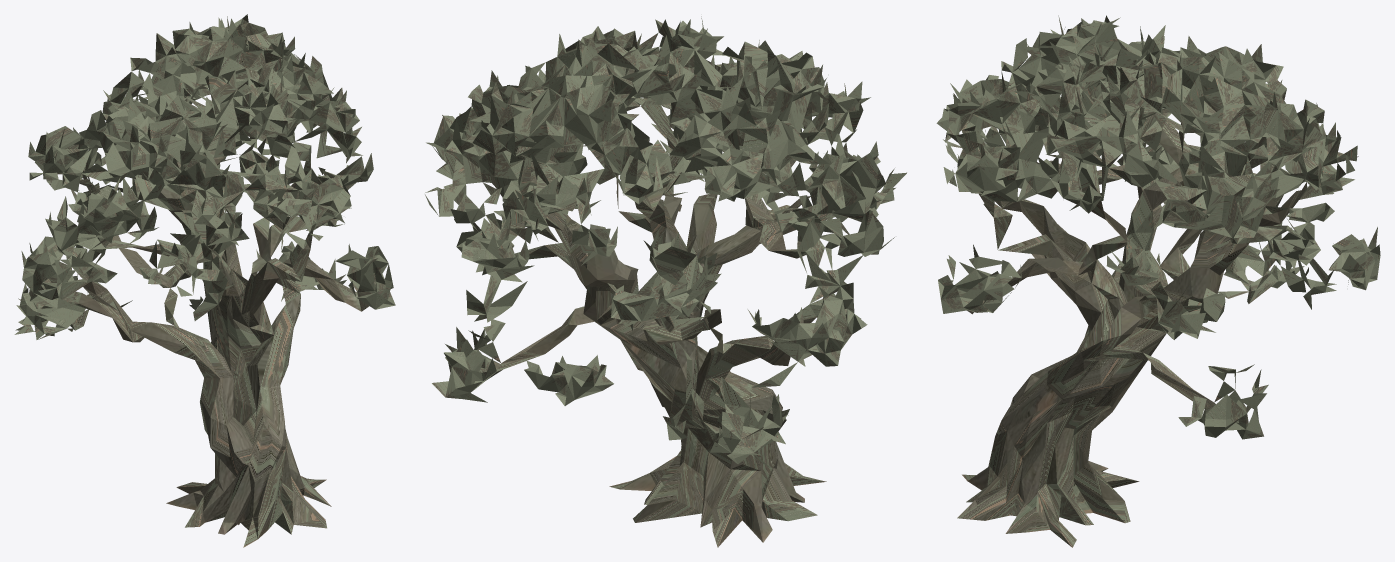
File: olive-tree-lite.glb
The picture shows the model from 3 angles, left to right: view 1: azimuth 30°, elevation 25°; view 2: azimuth 150°, elevation 25°; view 3: azimuth 270°, elevation 25°; orthographic projection. The views are drawn at different scales.
Visible parts, largest first — view 1: olive-tree-lite; view 2: olive-tree-lite; view 3: olive-tree-lite.
Part boxes in pixels (x1,y1,x2,y2): olive-tree-lite: (14,14,395,547); olive-tree-lite: (425,16,906,547); olive-tree-lite: (936,15,1380,547).
Bounding box in the file's own units: 4.16 × 5 × 4.23.
1 material, 1 textured.
